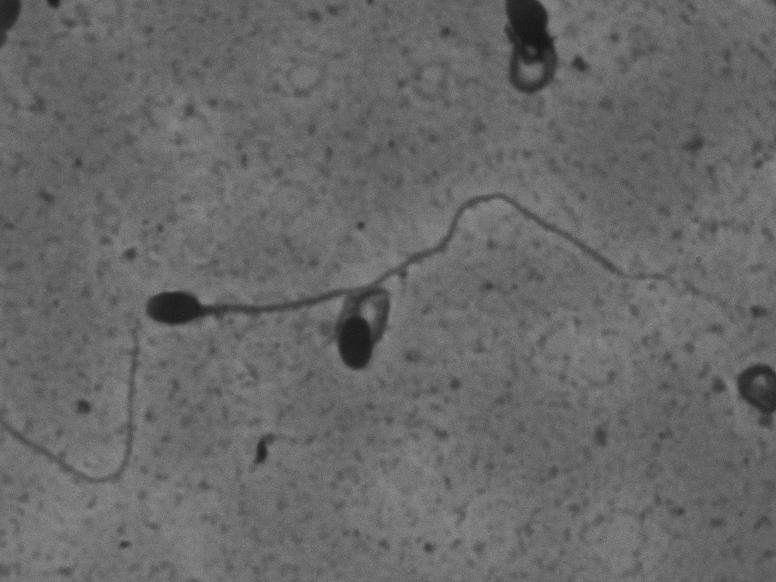Abnormal: (325, 280, 402, 383)
Normal: (139, 164, 685, 336)
